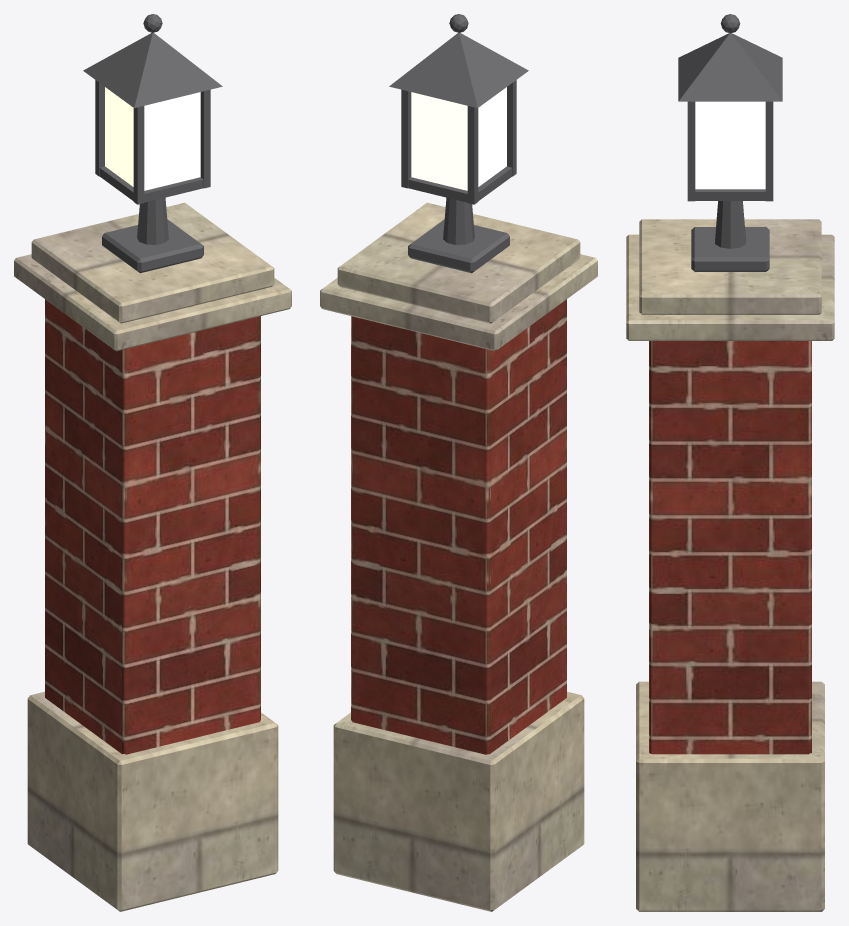
Rendered from fence_pier_lamp.glb.
3 views of the same model, side by side, from view 1: azimuth 30°, elevation 25°; view 2: azimuth 150°, elevation 25°; view 3: azimuth 270°, elevation 25° (orthographic).
Visible parts, largest first — view 1: fence_pier_lamp_brick, fence_pier_lamp_stone_t, fence_pier_lamp_iron, fence_pier_lamp_lamp_glass; view 2: fence_pier_lamp_brick, fence_pier_lamp_stone_t, fence_pier_lamp_iron, fence_pier_lamp_lamp_glass; view 3: fence_pier_lamp_brick, fence_pier_lamp_stone_t, fence_pier_lamp_iron, fence_pier_lamp_lamp_glass.
Boxes of the visible parts, bbox=[...] form: fence_pier_lamp_brick: bbox=[45, 299, 260, 754]; fence_pier_lamp_stone_t: bbox=[14, 202, 291, 911]; fence_pier_lamp_iron: bbox=[83, 14, 222, 273]; fence_pier_lamp_lamp_glass: bbox=[105, 87, 200, 190]; fence_pier_lamp_brick: bbox=[351, 299, 566, 754]; fence_pier_lamp_stone_t: bbox=[320, 202, 597, 911]; fence_pier_lamp_iron: bbox=[389, 14, 528, 273]; fence_pier_lamp_lamp_glass: bbox=[411, 87, 506, 190]; fence_pier_lamp_brick: bbox=[649, 341, 811, 754]; fence_pier_lamp_stone_t: bbox=[626, 219, 834, 911]; fence_pier_lamp_iron: bbox=[678, 14, 782, 271]; fence_pier_lamp_lamp_glass: bbox=[695, 101, 765, 189].
Bounding box in the file's own units: 0.64 × 2.91 × 0.64.
4 materials, 2 textured.
